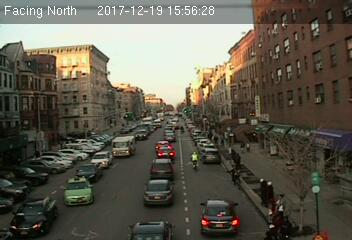bicycle: (189, 148, 199, 171)
car: (7, 197, 59, 235), (199, 199, 241, 237), (142, 180, 176, 207), (65, 176, 93, 206), (150, 157, 175, 181), (73, 163, 101, 180), (90, 152, 112, 168), (201, 148, 222, 164), (155, 146, 176, 158), (134, 130, 148, 141), (164, 132, 177, 141)
pedestrian: (228, 165, 243, 185)
truck: (113, 136, 136, 159)
